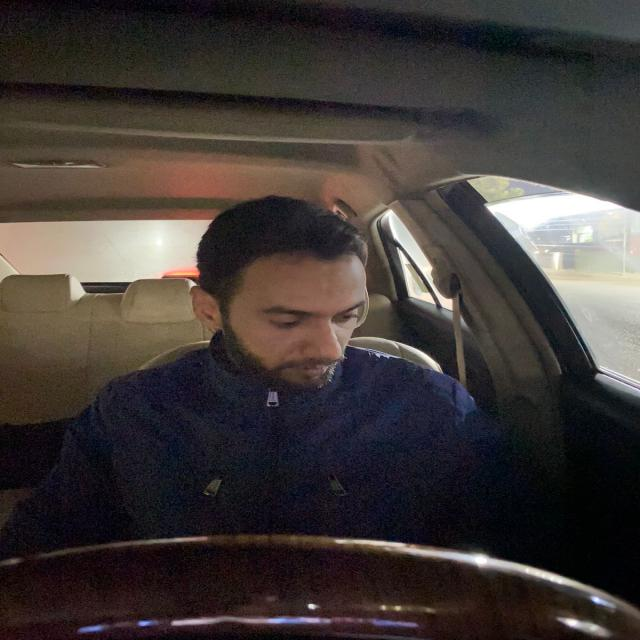person: (182, 190, 379, 398)
